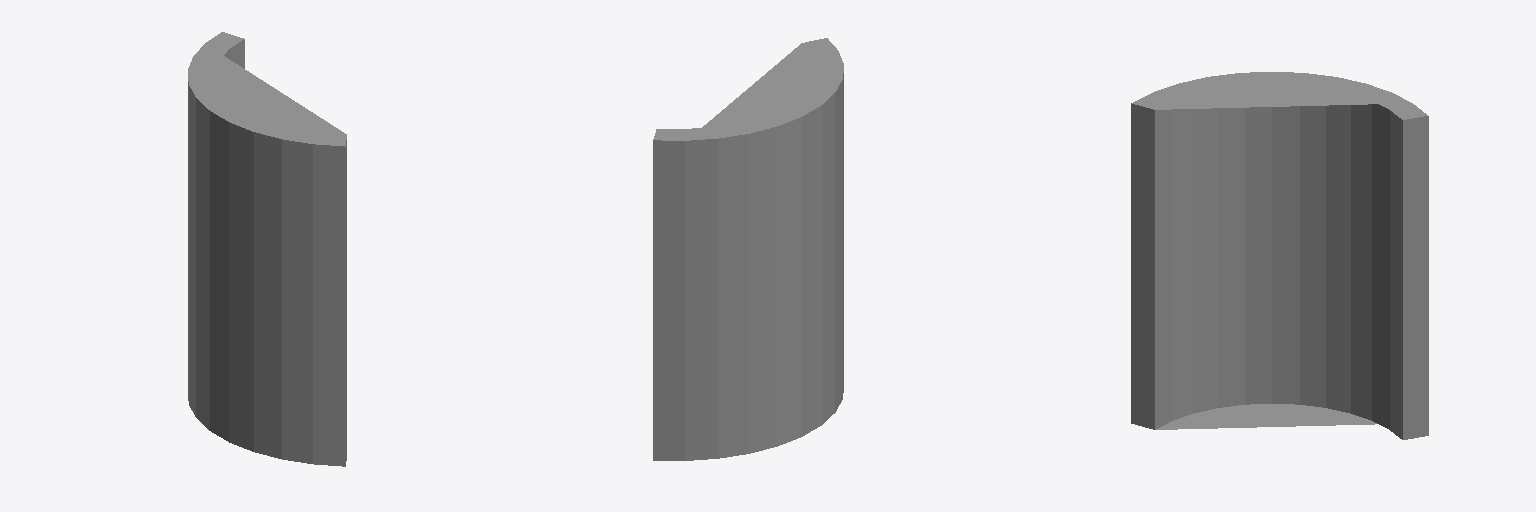
The model's file is tuile.obj.
3 renders of one model, left to right at view 1: azimuth 30°, elevation 25°; view 2: azimuth 150°, elevation 25°; view 3: azimuth 270°, elevation 25°, orthographic.
Visible parts, largest first — view 1: Cube; view 2: Cube; view 3: Cube.
Part boxes in pixels (left/top/right/bottom): Cube: left=188, top=32, right=346, bottom=466; Cube: left=653, top=38, right=843, bottom=460; Cube: left=1131, top=72, right=1428, bottom=439.
Bounding box in the file's own units: 0.8152 × 2.5 × 2.1.